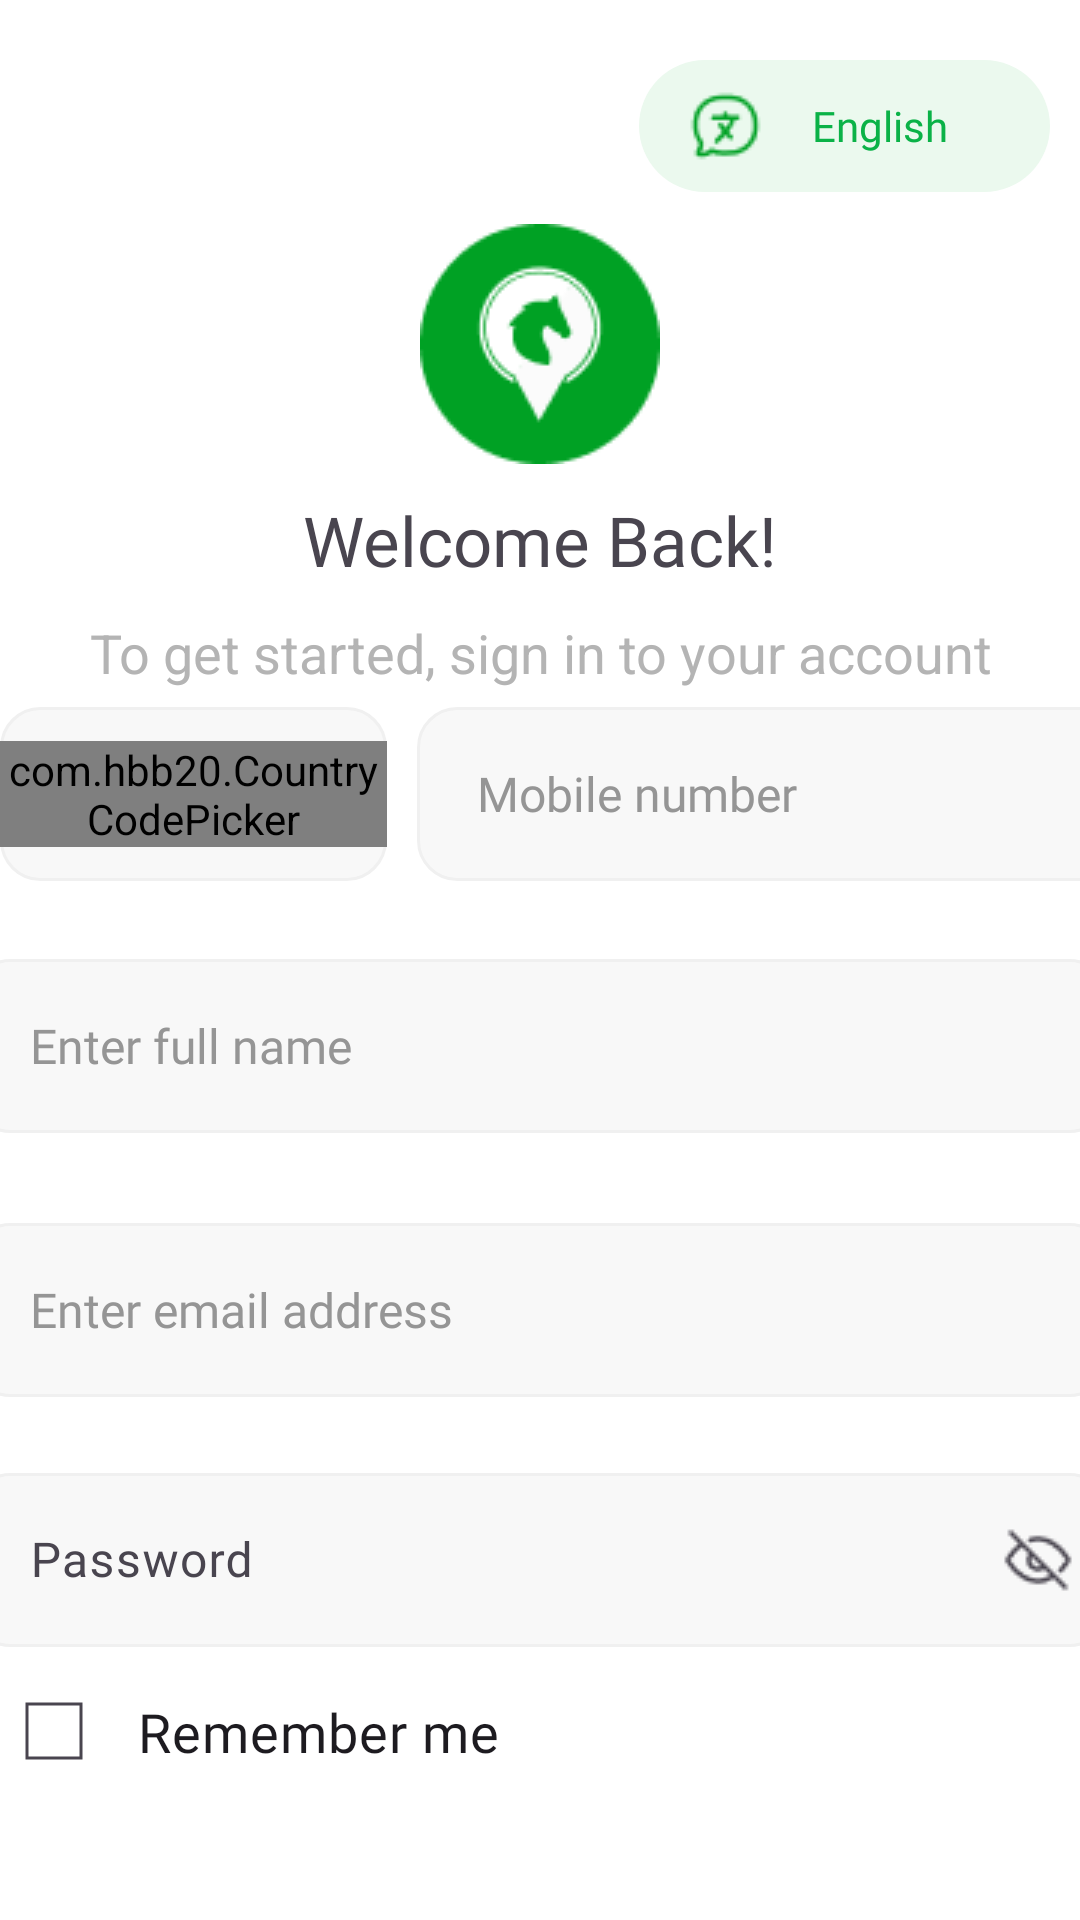

Named icons in this screenshot (1080w x 1920h) and their bounding boxes, (x1, y1, x2, y2):
message translate: (691, 93, 760, 159)
